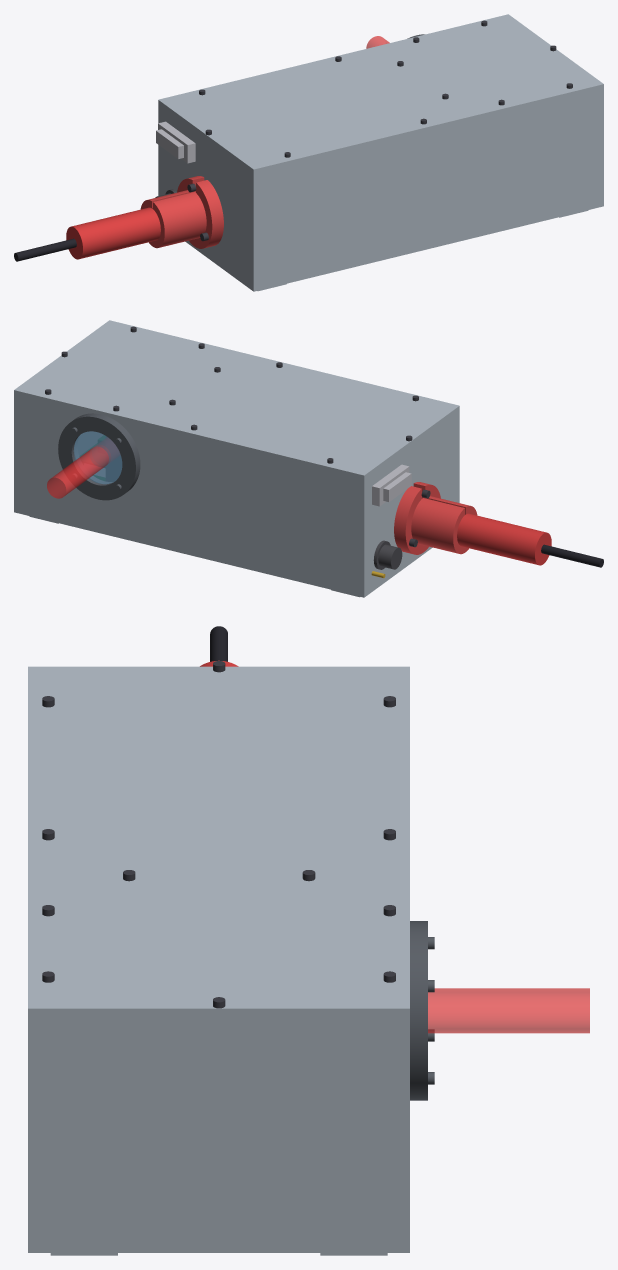
The model's file is focus_head_v0.2.glb.
3 views of the same model, one above another, from view 1: azimuth 30°, elevation 25°; view 2: azimuth 150°, elevation 25°; view 3: azimuth 270°, elevation 25° (orthographic). The views are drawn at different scales.
Visible parts, largest first — view 1: H01_Base, H02_Lid, I01_Collimator, I04_Clamp, I03_TiltFlange, E02_DB25, I02_FiberCable, H03_LidScrews; view 2: H01_Base, H02_Lid, W01_WinFrame, I01_Collimator, I04_Clamp, W02_Window, R05_BeamOut, I03_TiltFlange, E02_DB25, E03_PowerConn, I02_FiberCable, H03_LidScrews; view 3: H02_Lid, H01_Base, R05_BeamOut, W01_WinFrame, H03_LidScrews.
Boxes of the visible parts, box(x1,y1,x2,y2) form: H01_Base: box(158, 90, 603, 291); H02_Lid: box(158, 14, 603, 175); I01_Collimator: box(66, 207, 160, 259); I04_Clamp: box(140, 190, 206, 248); I03_TiltFlange: box(177, 176, 223, 248); E02_DB25: box(156, 121, 195, 163); I02_FiberCable: box(14, 238, 76, 261); H03_LidScrews: box(199, 20, 572, 157); H01_Base: box(14, 396, 459, 597); H02_Lid: box(14, 320, 459, 481); W01_WinFrame: box(58, 413, 140, 500); I01_Collimator: box(457, 513, 551, 565); I04_Clamp: box(411, 496, 477, 554); W02_Window: box(73, 431, 122, 484); R05_BeamOut: box(47, 444, 111, 498); I03_TiltFlange: box(394, 482, 440, 554); E02_DB25: box(372, 464, 411, 506); E03_PowerConn: box(373, 540, 402, 569); I02_FiberCable: box(541, 544, 603, 567); H03_LidScrews: box(45, 326, 418, 463); H02_Lid: box(28, 666, 409, 1020); H01_Base: box(28, 1021, 409, 1252); R05_BeamOut: box(428, 988, 589, 1033); W01_WinFrame: box(410, 921, 434, 1100); H03_LidScrews: box(42, 661, 395, 1008).
Size of the model in its own units: 555 by 129 by 250.
